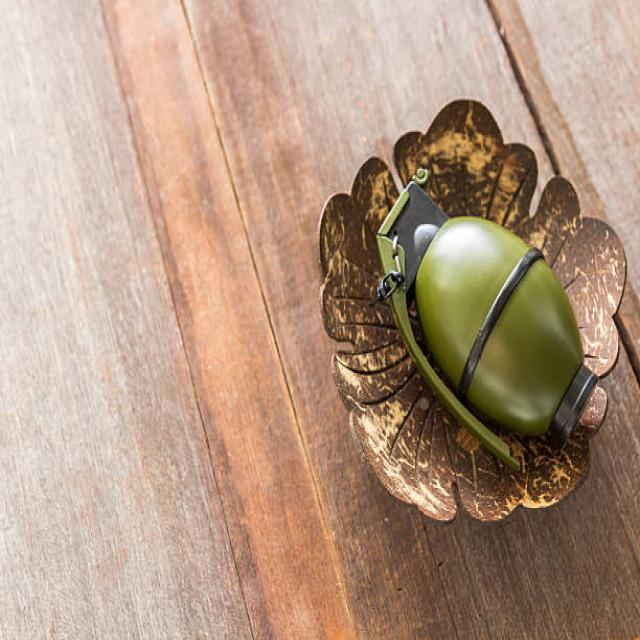grenade: (368, 163, 603, 472)
